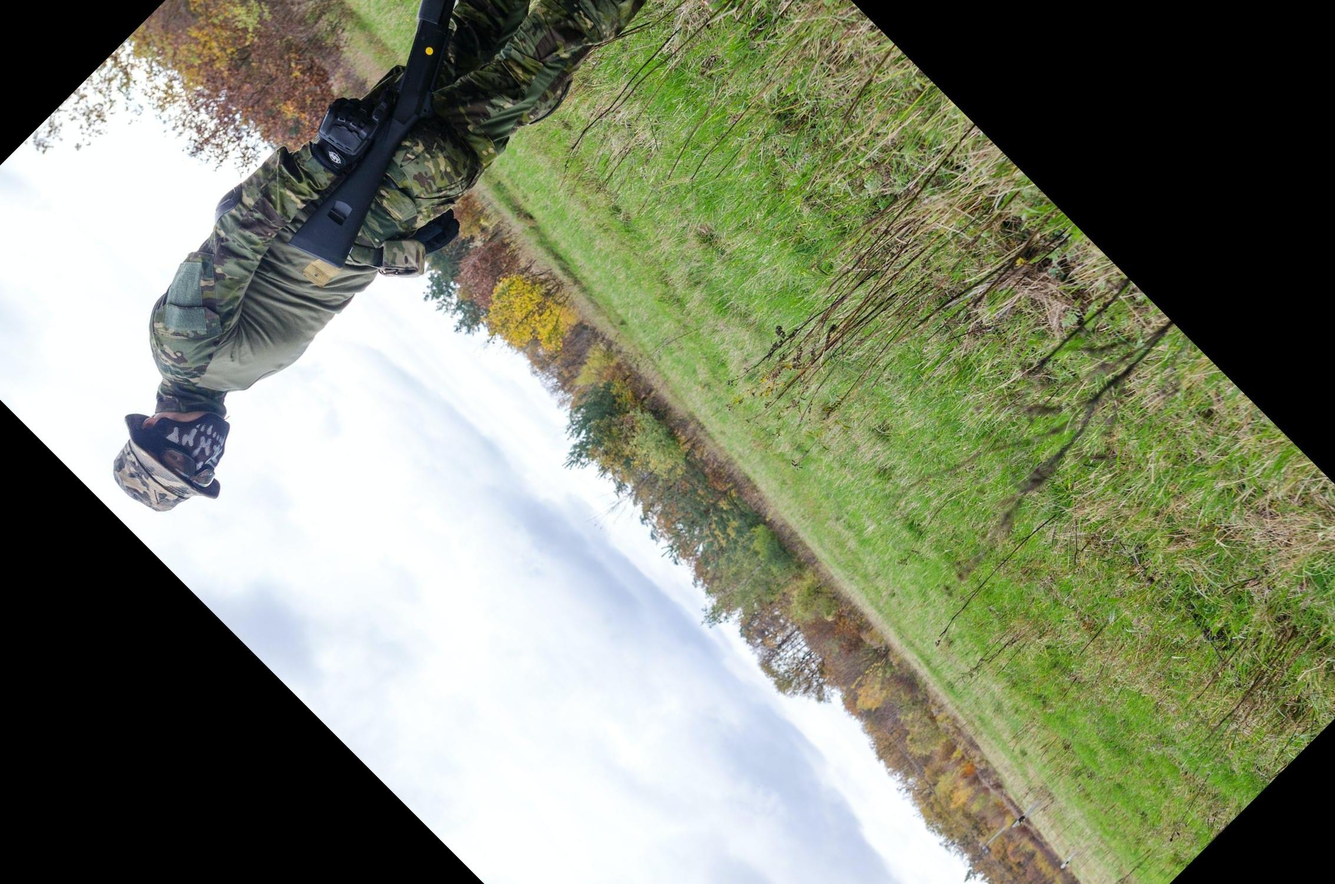larga: (288, 0, 455, 267)
